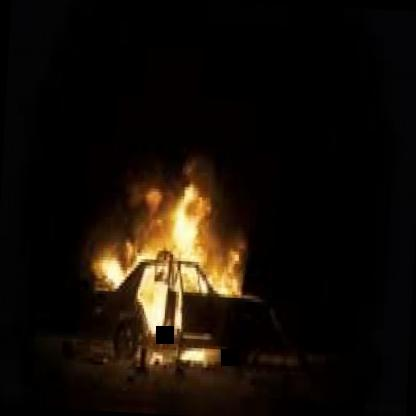fire: (78, 134, 246, 383)
